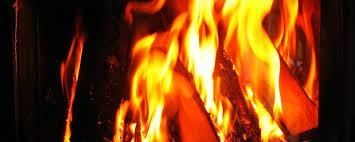fire: (120, 0, 318, 139)
